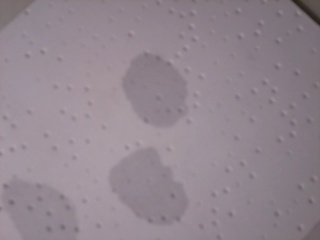Water_detected: (118, 149, 175, 212), (126, 58, 183, 114), (26, 186, 69, 234)
